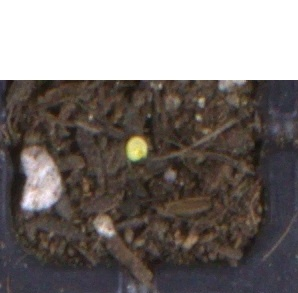chilli seed: (125, 135, 148, 162)
